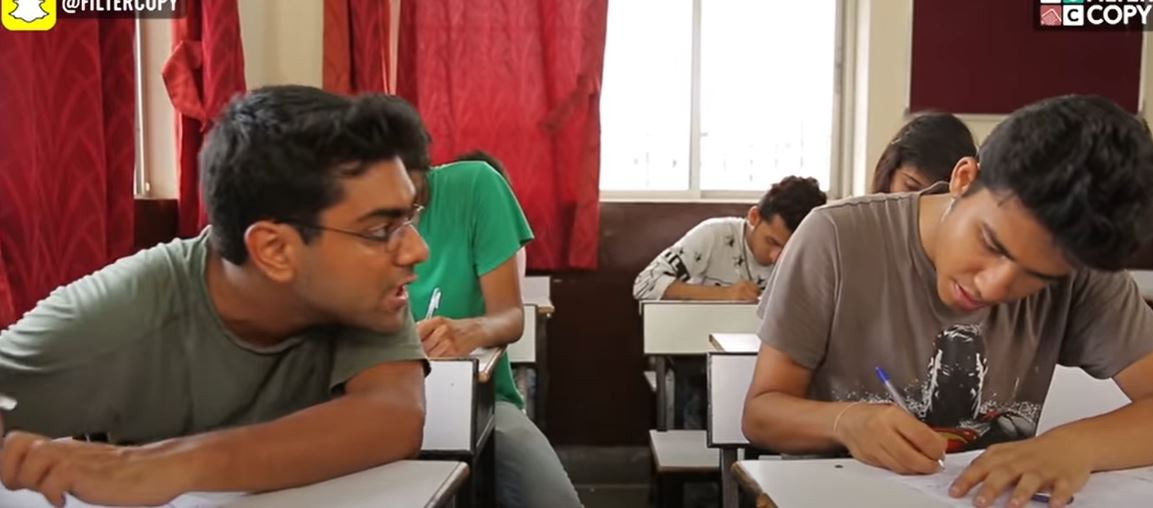student: (776, 150, 1147, 506), (723, 187, 843, 280), (869, 129, 971, 226)
studentcopying: (16, 54, 489, 507)
